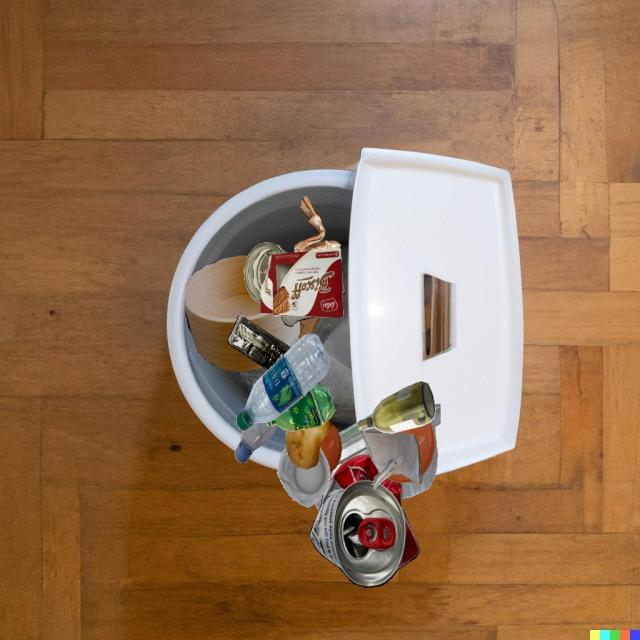biowaste: (285, 418, 333, 469)
cardboard: (260, 248, 343, 318), (298, 317, 322, 340)
combustible waste: (186, 256, 300, 371)
glass: (358, 381, 435, 434), (244, 243, 287, 303), (281, 316, 314, 327), (316, 382, 321, 385)
metal: (310, 454, 419, 588)
paper: (360, 429, 422, 490), (294, 196, 341, 252)
plastic: (292, 415, 435, 500), (236, 334, 330, 431), (228, 314, 291, 370), (267, 384, 335, 432), (277, 447, 330, 508), (234, 422, 278, 463), (380, 431, 420, 474), (320, 424, 342, 473), (394, 422, 435, 447)
